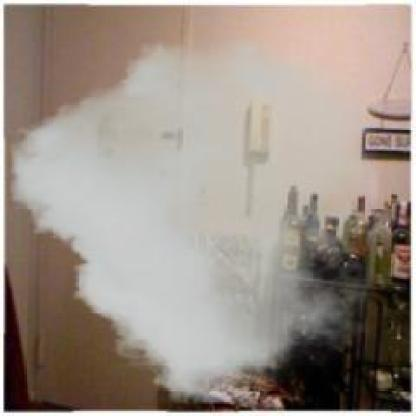Smoke: (11, 37, 377, 403)
